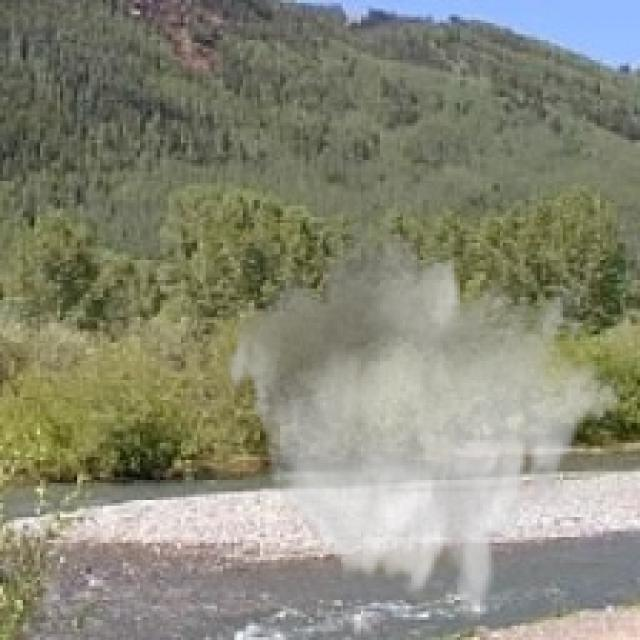smoke: (223, 208, 626, 626)
